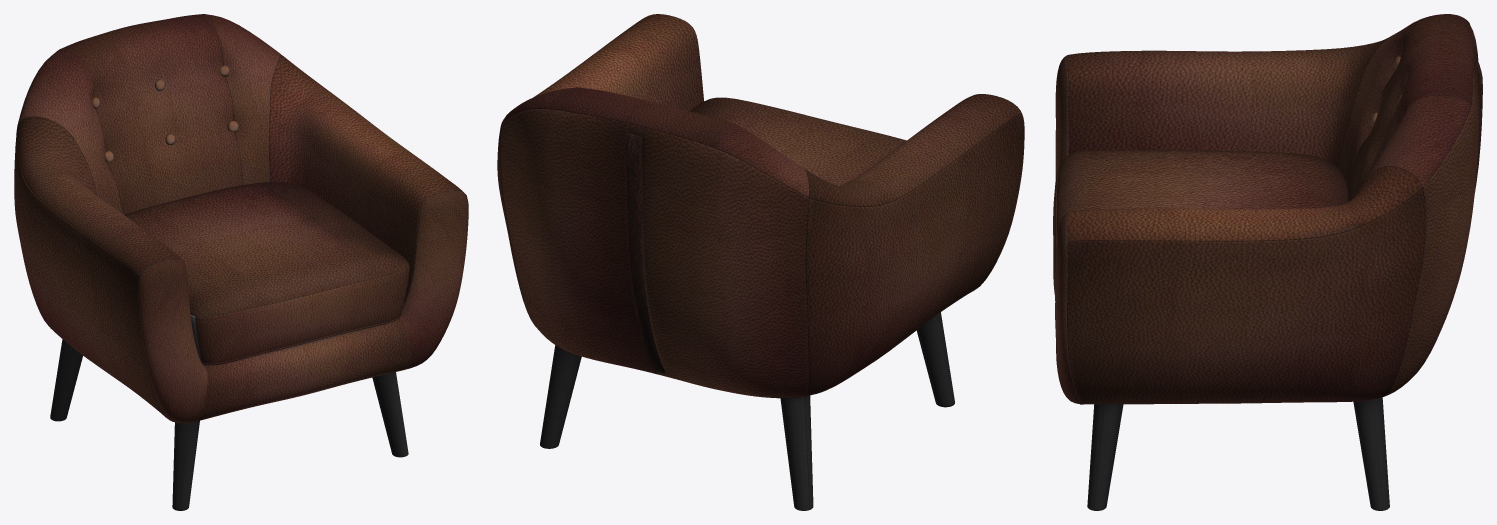
The model's file is armchairRed.gltf.
3 renders of one model, left to right at view 1: azimuth 30°, elevation 25°; view 2: azimuth 150°, elevation 25°; view 3: azimuth 270°, elevation 25°, orthographic. The views are drawn at different scales.
Visible parts, largest first — view 1: PEARL_GREY, LEGS, RAINBOW_BUTTONS; view 2: PEARL_GREY, LEGS; view 3: PEARL_GREY, LEGS.
Boxes of the visible parts, x1,y1,x2,y2 form: PEARL_GREY: (14,14,468,423); LEGS: (50,339,408,510); RAINBOW_BUTTONS: (92,65,238,162); PEARL_GREY: (497,14,1024,398); LEGS: (540,312,954,510); PEARL_GREY: (1053,14,1482,404); LEGS: (1087,397,1389,510).
Size of what is drawn, in the model's own units: 54.97 by 54.12 by 53.45.
Materials: 3 (3 with a texture image).
